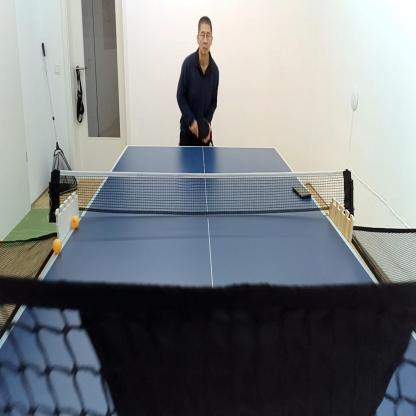Ball: (52, 236, 63, 257), (70, 213, 80, 231), (0, 235, 4, 245)
